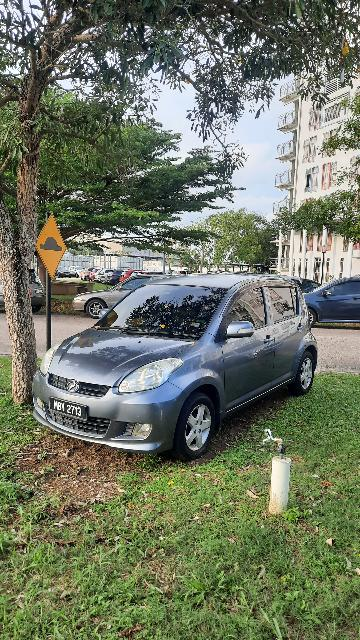License_Plate: (49, 395, 96, 426)
car: (37, 272, 325, 461)
